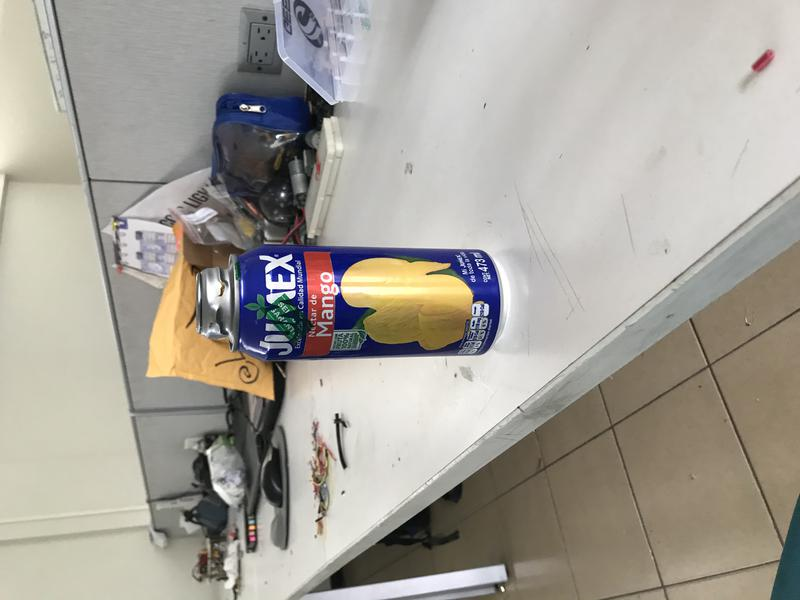jumex_botella: (196, 246, 507, 364)
